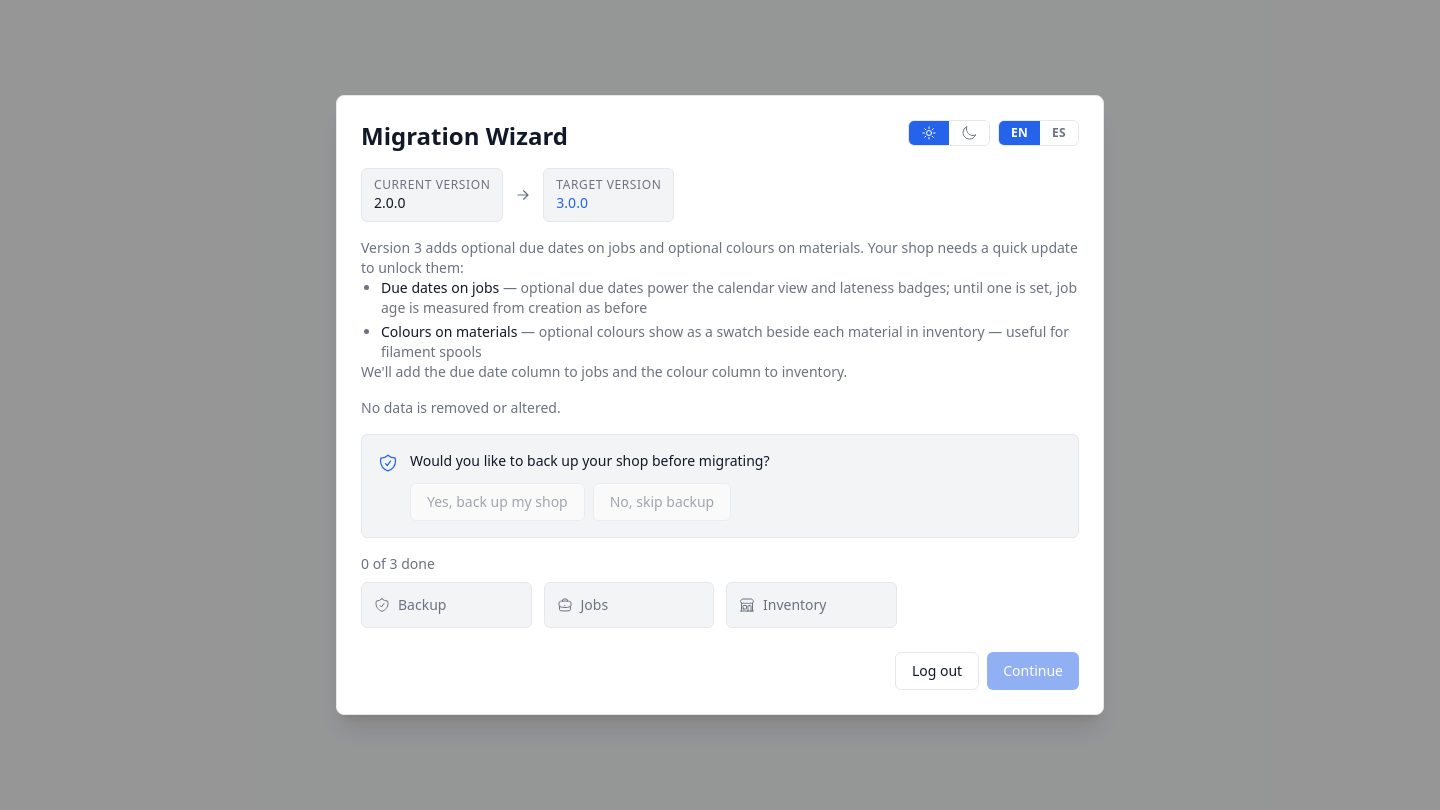
Test case: MigrationWizardModal › re-locks Continue when the answer is deselected
This screenshot has width=1440, height=810.
Click the button with test id "wizard-backup-yes" at [497, 502], box top-left (410, 483), bottom-right (585, 521)
Wait 5000 ms
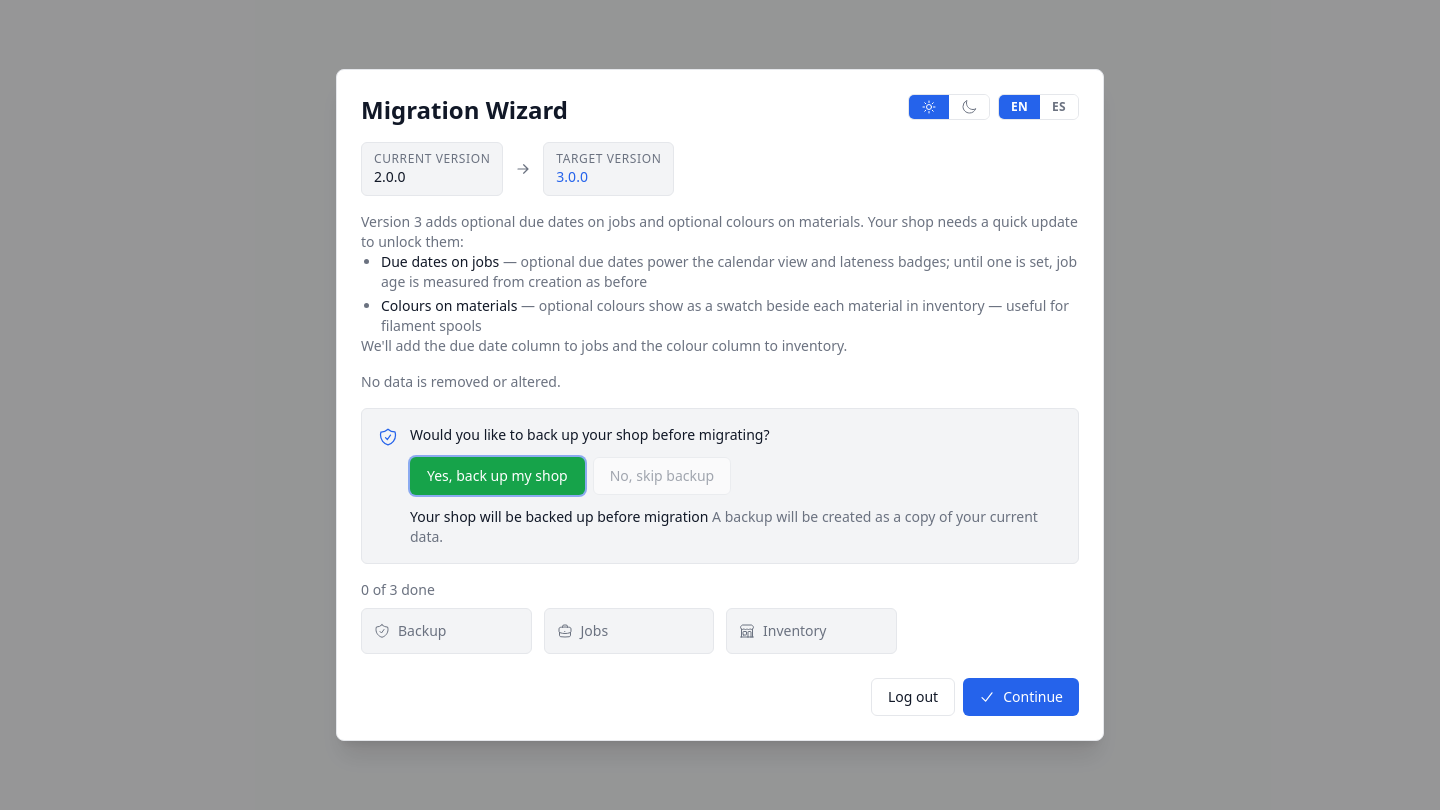
expect the button with test id "wizard-migration-continue" is enabled: met, box top-left (963, 678), bottom-right (1079, 716)
Click the button with test id "wizard-backup-yes" at [497, 476], box top-left (410, 457), bottom-right (585, 495)
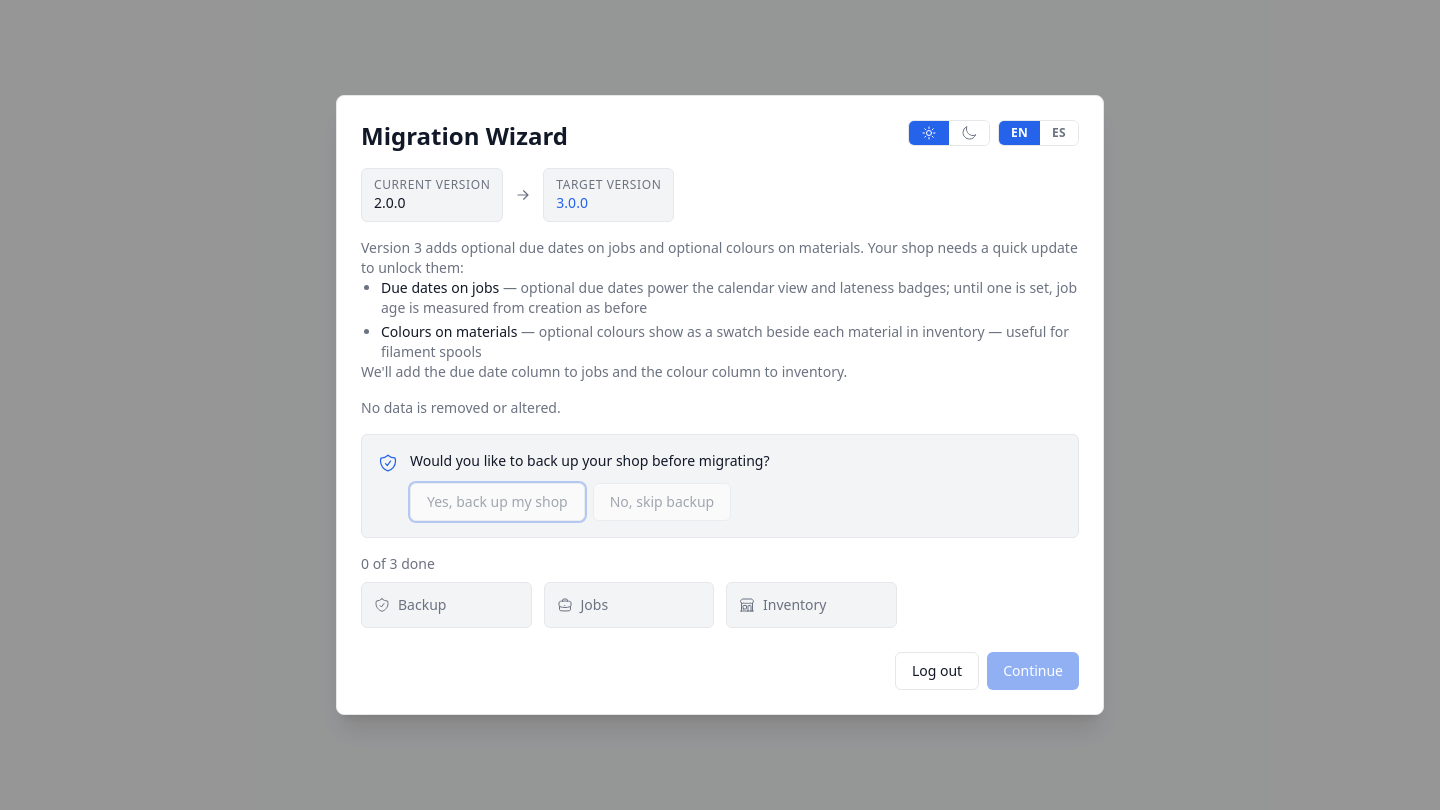
expect the button with test id "wizard-migration-continue" is disabled: met, box top-left (987, 652), bottom-right (1079, 690)
